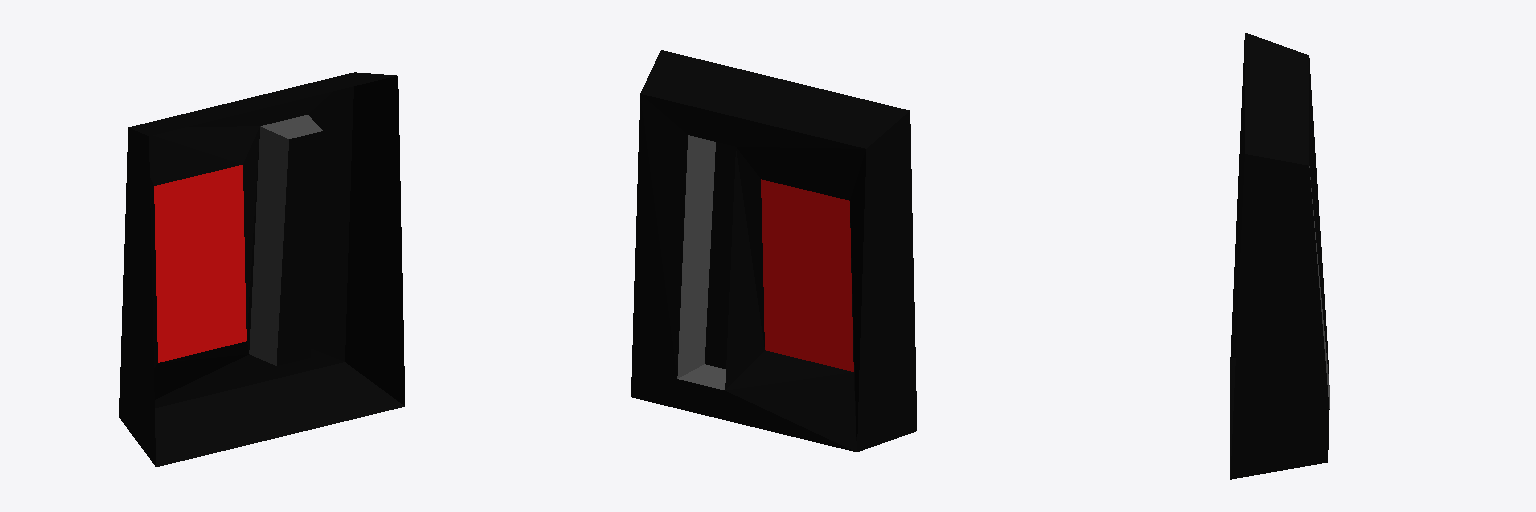
Rendered from Monedas 1.obj.
3 views of the same model, side by side, from view 1: azimuth 30°, elevation 25°; view 2: azimuth 150°, elevation 25°; view 3: azimuth 270°, elevation 25° (orthographic).
Visible parts, largest first — view 1: Monedas 1; view 2: Monedas 1; view 3: Monedas 1.
Part boxes in pixels (x1,y1,x2,y2): Monedas 1: (119,72,404,466); Monedas 1: (631,50,916,451); Monedas 1: (1230,33,1329,479).
Size of the model in its own units: 0.5024 by 0.6275 by 0.1729.